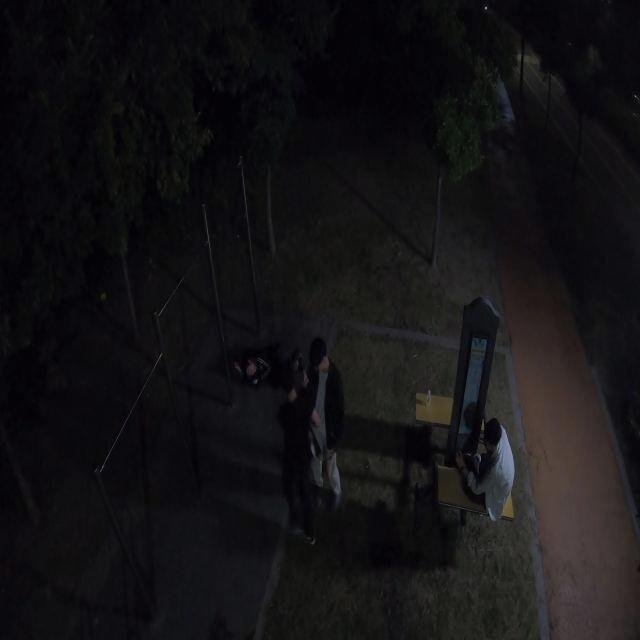fight: (226, 331, 353, 549)
non-fight: (457, 399, 517, 522)
